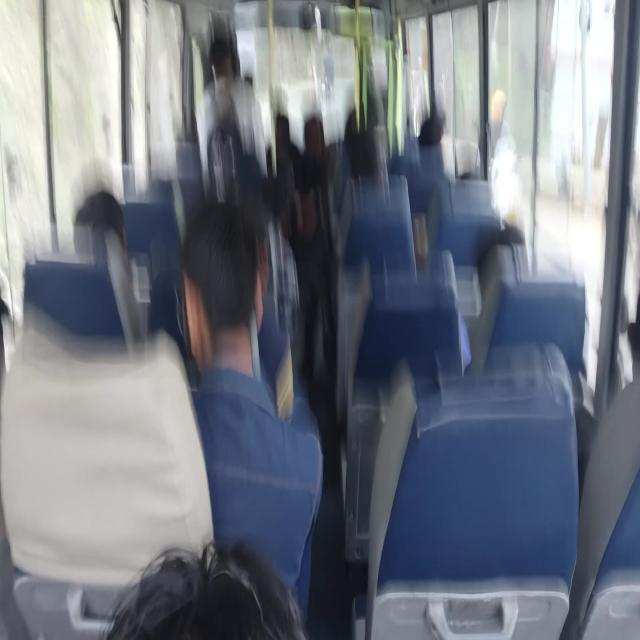person: (160, 481, 295, 640), (181, 201, 273, 360), (60, 188, 131, 255), (201, 28, 259, 101), (352, 114, 397, 194), (491, 220, 536, 288), (300, 110, 345, 177), (416, 106, 462, 163), (615, 292, 640, 372), (272, 112, 309, 164), (398, 204, 435, 239), (464, 160, 493, 202)
